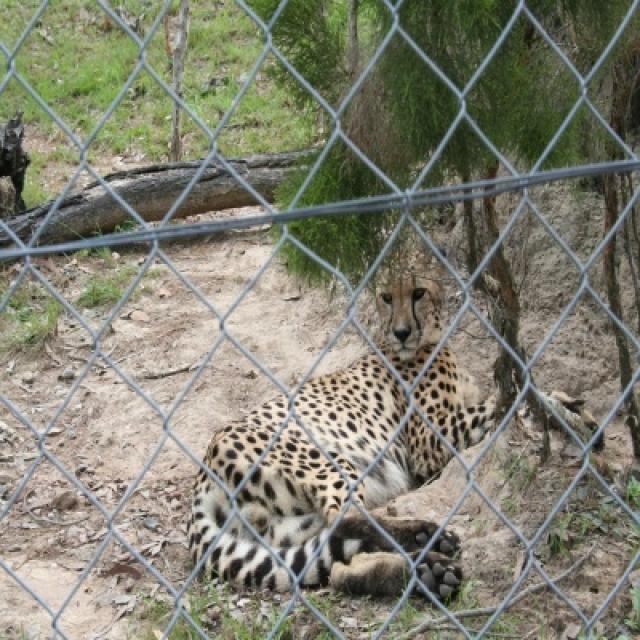Cheetah: (184, 245, 507, 603)
